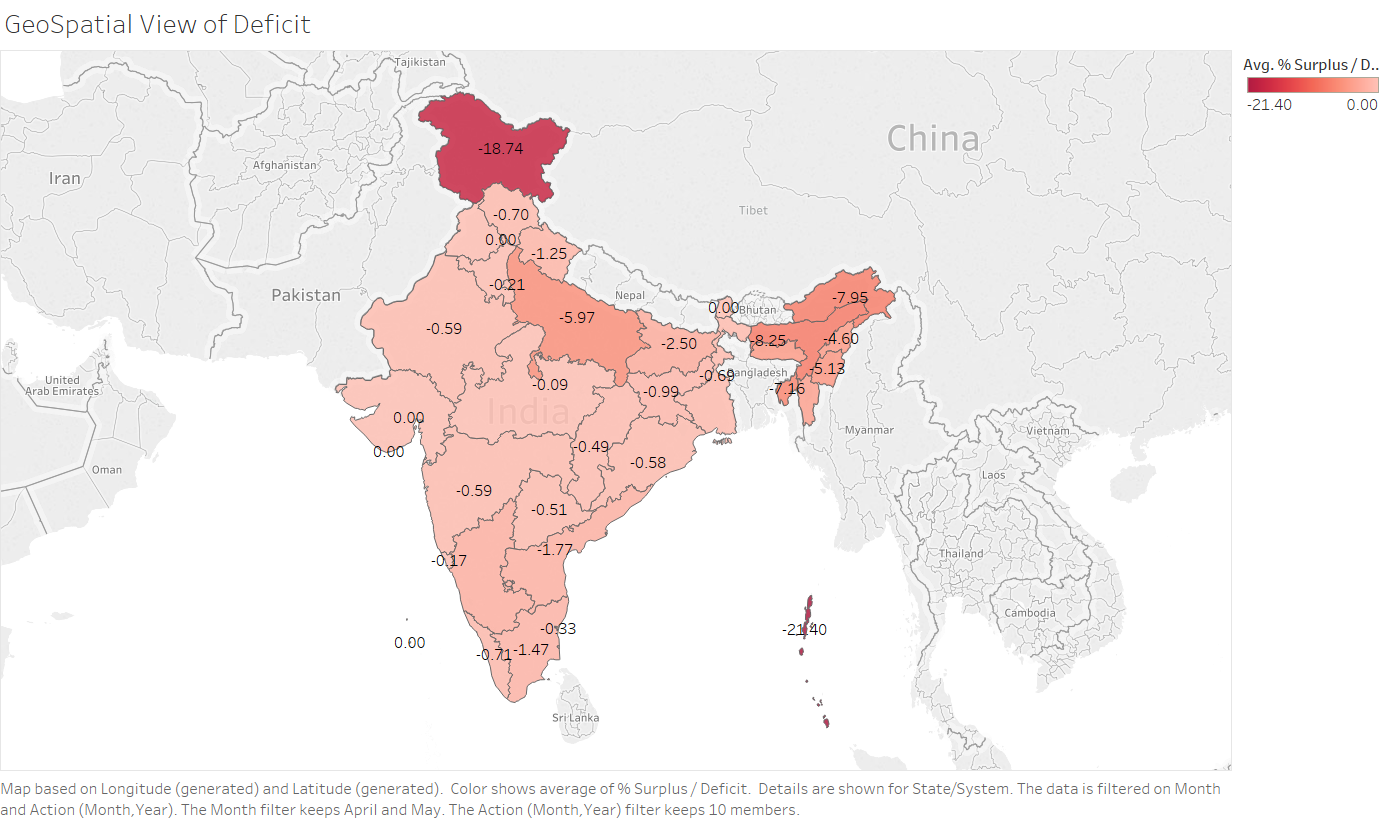

The dashboard page shown, as its layout file describes it:
{"tool":"tableau","page":{"name":"State - Average Deficit","canvas":[1000,800],"ordinal":2},"visuals":[{"type":"worksheet","title":"GeoSpatial View of Deficit","mark":"Automatic","box":[8,8,824,784]},{"type":"legend","title":"GeoSpatial View of Deficit","param":"[federated.17gt29408rv4sd1elzkct1py564u].[avg:% Surplus / Deficit:qk]","box":[832,8,160,65]}]}

Visuals, with their boxes on the page's 1000x800 design canvas (x1, y1, x2, y2). These are canvas units, not pixel positions in the 1383x821 screenshot, which may show the page scaled, cropped or inside an application window:
"GeoSpatial View of Deficit" worksheet: <bbox>8, 8, 832, 792</bbox>
"GeoSpatial View of Deficit" legend: <bbox>832, 8, 992, 73</bbox>
